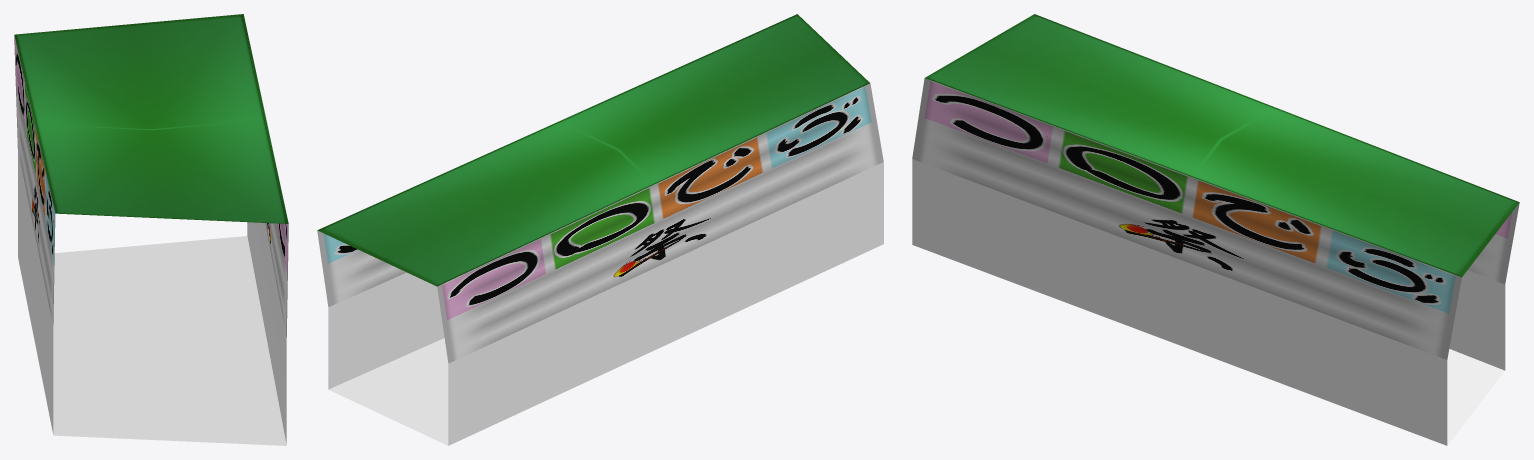
The model's file is CourseWinter_Wall_R_11_9.fbx.
3 views of the same model, side by side, from view 1: azimuth 30°, elevation 25°; view 2: azimuth 150°, elevation 25°; view 3: azimuth 270°, elevation 25° (orthographic). The views are drawn at different scales.
Visible parts, largest first — view 1: polySurface516; view 2: polySurface516; view 3: polySurface516.
Boxes of the visible parts, x1,y1,x2,y2 form: polySurface516: [14, 14, 288, 445]; polySurface516: [317, 14, 883, 445]; polySurface516: [912, 14, 1519, 445].
Size of the model in its own units: 4.53 by 2.99 by 6.41.
1 material, 1 textured.
